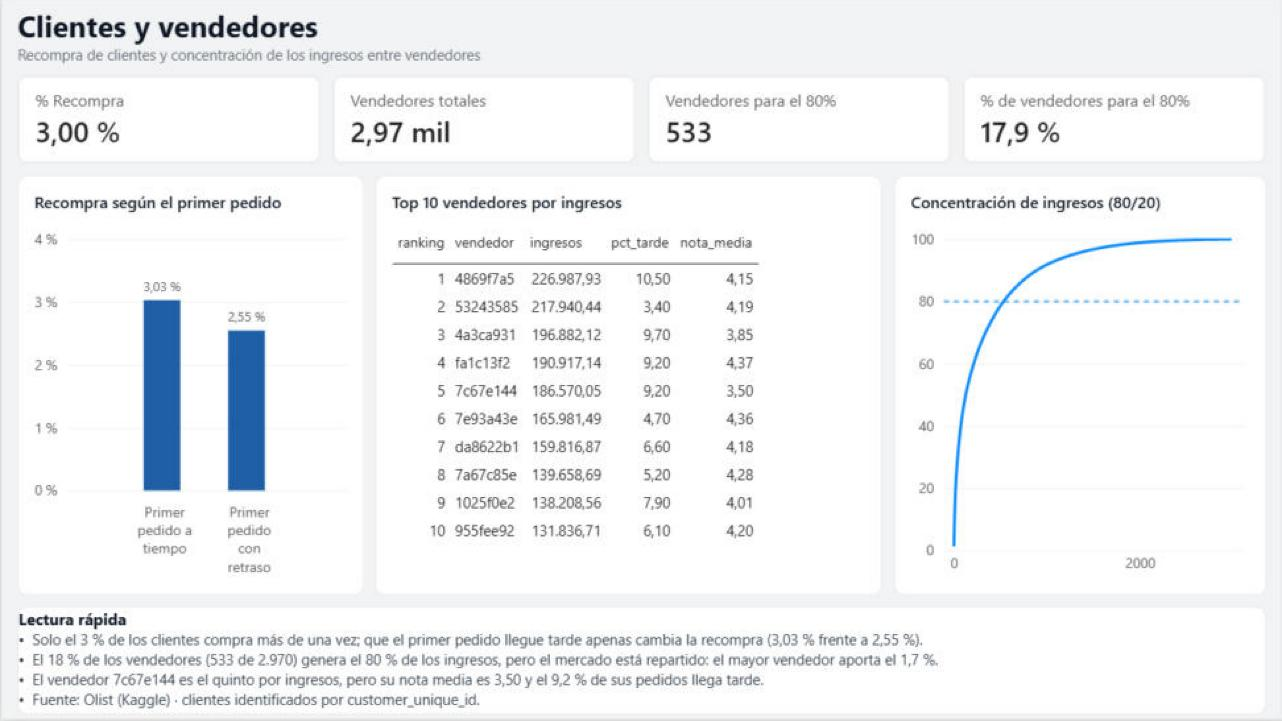

This screenshot's page, from the dashboard's own definition file:
{"tool":"powerbi","page":{"name":"Clientes y vendedores","canvas":[1280,720],"ordinal":2},"visuals":[{"type":"cardVisual","fields":{"Data":["Clientes.% Recompra"]},"box":[16,76,303,88],"z":0},{"type":"clusteredColumnChart","title":"Recompra según el primer pedido","fields":{"Category":["Clientes.primer_pedido"],"Y":["Clientes.% Recompra"]},"box":[16,176,346,420],"z":1000},{"type":"cardVisual","fields":{"Data":["Vendedores.% de vendedores para el 80%"]},"box":[961,76,303,88],"z":2000},{"type":"cardVisual","fields":{"Data":["Vendedores.Vendedores para el 80%"]},"box":[646,76,303,88],"z":3000},{"type":"cardVisual","fields":{"Data":["Vendedores.Vendedores totales"]},"box":[331,76,303,88],"z":4000},{"type":"tableEx","title":"Top 10 vendedores por ingresos","fields":{"Values":["Vendedores.ranking","Vendedores.vendedor","Vendedores.ingresos","Vendedores.pct_tarde","Vendedores.nota_media"]},"box":[374,176,506,420],"z":5000},{"type":"lineChart","title":"Concentración de ingresos (80/20)","fields":{"Category":["Vendedores.ranking"],"Y":["Max(Vendedores.pct_acumulado)"]},"box":[892,176,372,420],"z":6000},{"type":"textbox","box":[16,6,980,60],"z":9000},{"type":"textbox","box":[16,608,1248,108],"z":9100}]}

Visuals, with their boxes in screenshot pixels (x1, y1, x2, y2), scaled from the page's 1280x720 canvas onto the 1282x721 screenshot:
cardVisual - Clientes.% Recompra: box(16, 76, 319, 164)
"Recompra según el primer pedido" clusteredColumnChart: box(16, 176, 363, 597)
cardVisual - Vendedores.% de vendedores para el 80%: box(963, 76, 1266, 164)
cardVisual - Vendedores.Vendedores para el 80%: box(647, 76, 950, 164)
cardVisual - Vendedores.Vendedores totales: box(332, 76, 635, 164)
"Top 10 vendedores por ingresos" tableEx: box(375, 176, 881, 597)
"Concentración de ingresos (80/20)" lineChart: box(893, 176, 1266, 597)
textbox: box(16, 6, 998, 66)
textbox: box(16, 609, 1266, 717)
